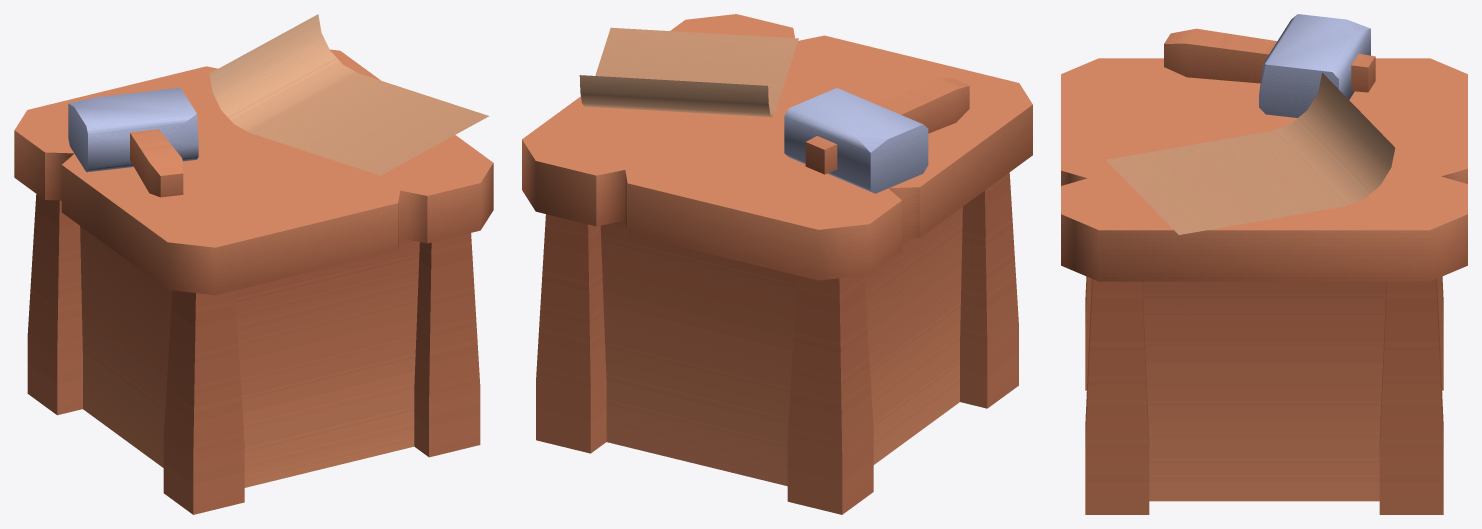
The model's file is workbench.glb.
3 views of the same model, side by side, from view 1: azimuth 30°, elevation 25°; view 2: azimuth 150°, elevation 25°; view 3: azimuth 270°, elevation 25° (orthographic). The views are drawn at different scales.
Parts seen in each view (by area): view 1: workbench; view 2: workbench; view 3: workbench.
Boxes of the visible parts, <box> form: workbench: <box>14,14,493,514</box>; workbench: <box>522,14,1032,514</box>; workbench: <box>1061,14,1467,514</box>.
Size of the model in its own units: 0.3257 by 0.2866 by 0.2957.
1 material, 1 textured.
